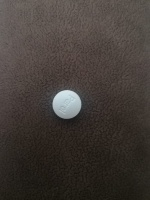Parol: (51, 89, 83, 121)
